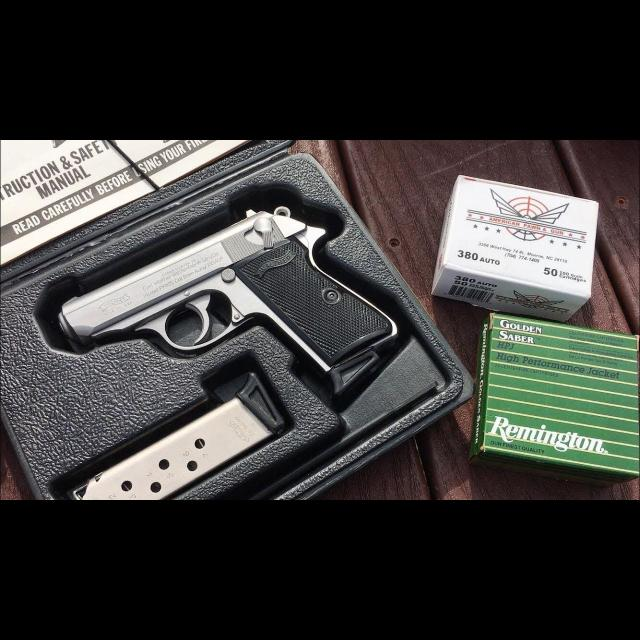handgun: (52, 202, 406, 412)
